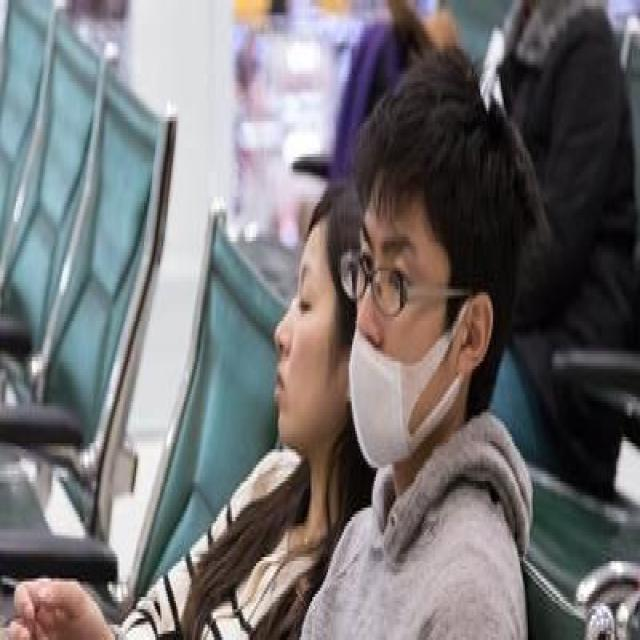with_mask: (343, 214, 449, 463)
without_mask: (272, 250, 339, 444)
